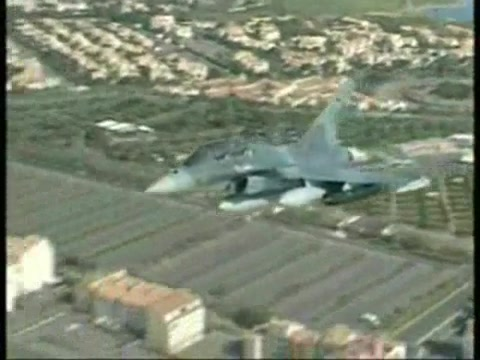aeroplane: (145, 105, 420, 218)
